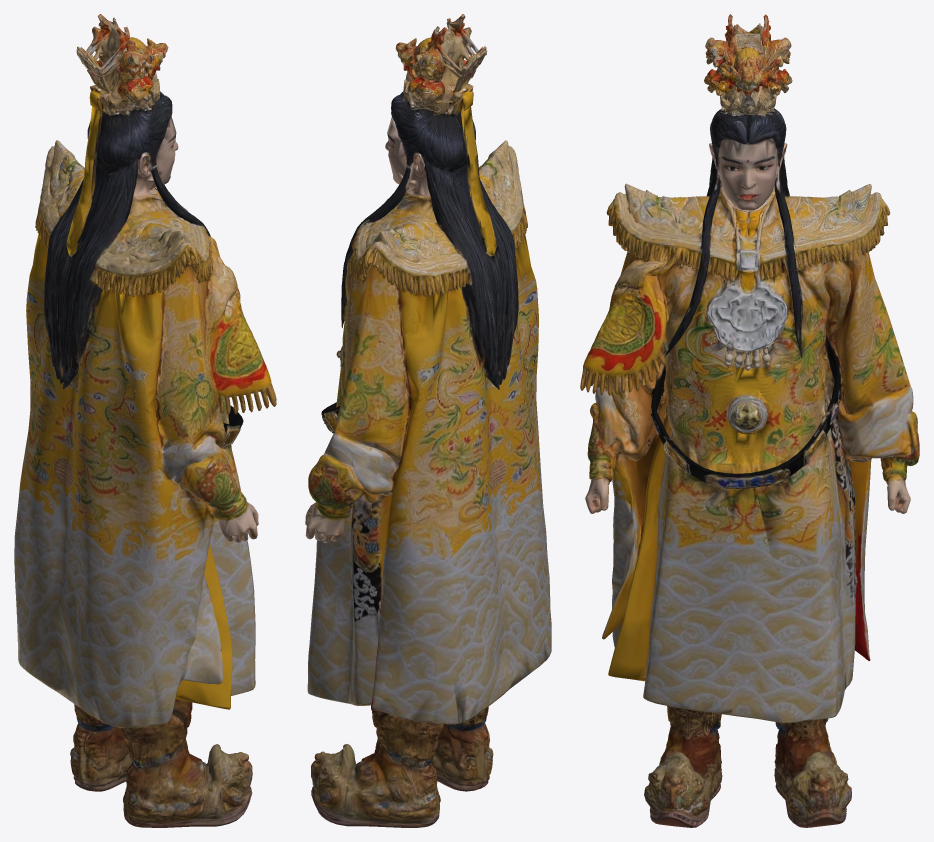
The model's file is 张大世子.glb.
3 views of the same model, side by side, from view 1: azimuth 30°, elevation 25°; view 2: azimuth 150°, elevation 25°; view 3: azimuth 270°, elevation 25° (orthographic).
Parts seen in each view (by area): view 1: tripo_node_3d47b4cd-a938-4e8a-a542-86818558e280; view 2: tripo_node_3d47b4cd-a938-4e8a-a542-86818558e280; view 3: tripo_node_3d47b4cd-a938-4e8a-a542-86818558e280.
Boxes of the visible parts, x1,y1,x2,y2 form: tripo_node_3d47b4cd-a938-4e8a-a542-86818558e280: (14, 14, 276, 827); tripo_node_3d47b4cd-a938-4e8a-a542-86818558e280: (305, 14, 551, 827); tripo_node_3d47b4cd-a938-4e8a-a542-86818558e280: (580, 14, 919, 827).
Bounding box in the file's own units: 0.2292 × 0.9778 × 0.39.
1 material, 1 textured.
